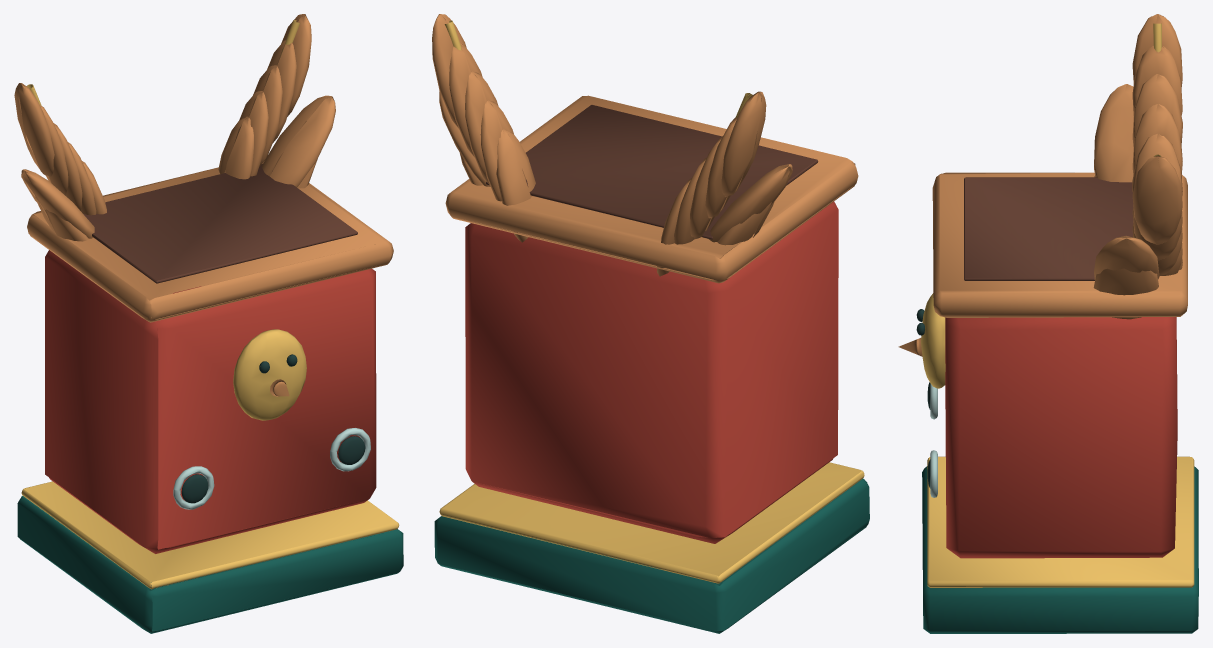
The picture shows the model from 3 angles, left to right: view 1: azimuth 30°, elevation 25°; view 2: azimuth 150°, elevation 25°; view 3: azimuth 270°, elevation 25°; orthographic projection. The views are drawn at different scales.
Visible parts, largest first — view 1: Foundry body, Oil well lip, Oil well, Brass welt, Jade footing, Temperature dial, Phoenix eye; view 2: Foundry body, Oil well lip, Jade footing, Oil well, Brass welt; view 3: Foundry body, Oil well lip, Oil well, Jade footing, Brass welt, Temperature dial.
Boxes of the visible parts, x1,y1,x2,y2 form: Foundry body: [45, 250, 376, 553]; Oil well lip: [14, 14, 393, 396]; Oil well: [83, 164, 357, 283]; Brass welt: [21, 20, 399, 589]; Jade footing: [17, 496, 403, 633]; Temperature dial: [173, 428, 370, 509]; Phoenix eye: [181, 354, 365, 503]; Foundry body: [465, 201, 838, 543]; Oil well lip: [432, 14, 858, 283]; Jade footing: [434, 478, 869, 633]; Oil well: [486, 105, 818, 239]; Brass welt: [439, 20, 864, 583]; Foundry body: [945, 317, 1177, 558]; Oil well lip: [898, 14, 1187, 356]; Oil well: [964, 177, 1133, 280]; Jade footing: [922, 466, 1198, 633]; Brass welt: [921, 23, 1194, 587]; Temperature dial: [930, 383, 937, 497].
Size of the model in its own units: 0.9445 by 1.39 by 0.7764.
